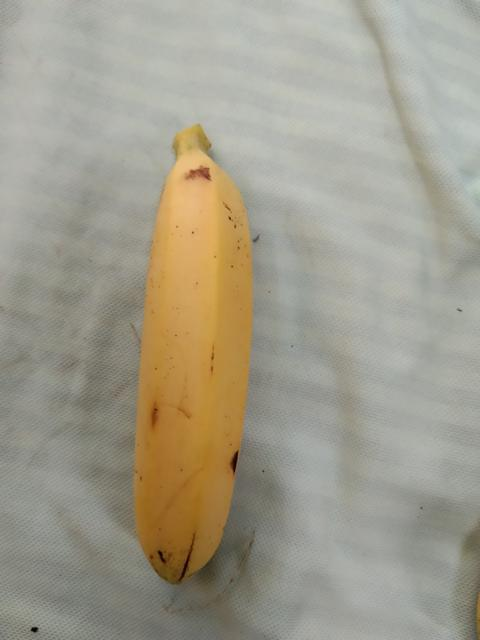freshripe: (110, 146, 280, 595)
